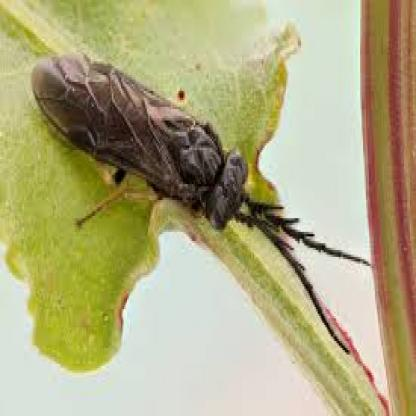sawfly: (30, 43, 362, 352)
